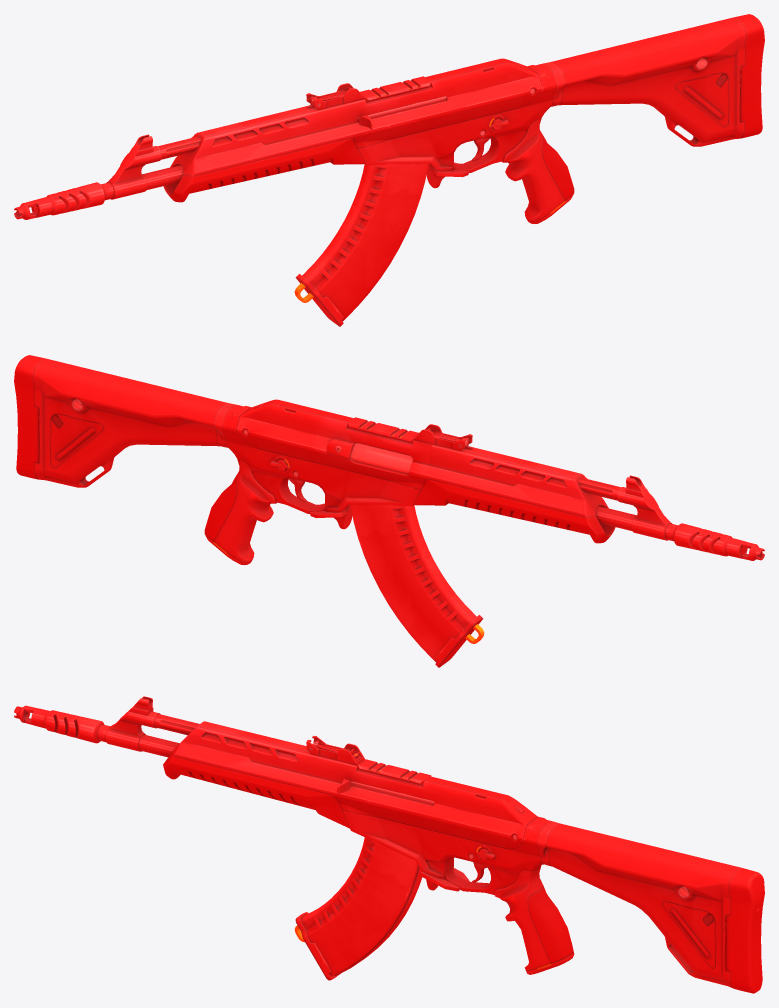
The model's file is viewmodel-vandal.glb.
3 renders of one model, top to bottom at view 1: azimuth 30°, elevation 25°; view 2: azimuth 150°, elevation 25°; view 3: azimuth 330°, elevation 25°, orthographic.
Parts seen in each view (by area): view 1: GN_AK_S0_Skelmesh.mo, GN_AK_Magazine_S0_Staticmesh.mo; view 2: GN_AK_S0_Skelmesh.mo, GN_AK_Magazine_S0_Staticmesh.mo; view 3: GN_AK_S0_Skelmesh.mo, GN_AK_Magazine_S0_Staticmesh.mo.
Part boxes in pixels (x1,y1,x2,y2): GN_AK_S0_Skelmesh.mo: (14,14,764,223); GN_AK_Magazine_S0_Staticmesh.mo: (294,163,428,326); GN_AK_S0_Skelmesh.mo: (14,355,764,565); GN_AK_Magazine_S0_Staticmesh.mo: (350,504,484,667); GN_AK_S0_Skelmesh.mo: (14,696,764,993); GN_AK_Magazine_S0_Staticmesh.mo: (294,837,422,980).
Size of the model in its own units: 1.28 by 0.3841 by 0.0837.
Materials: 1 (1 with a texture image).
